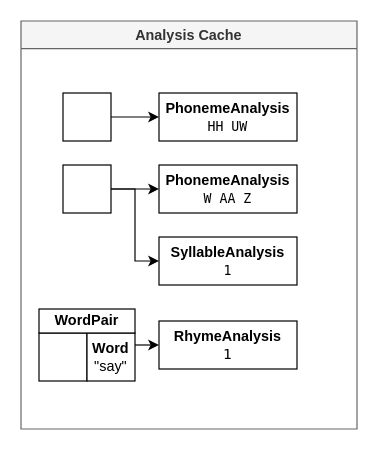
This 378x450 diagram has some shape labels left out. The box of each missing label's shape, as (x1, y1, x2, y2) in pixels:
Word "today": (38, 332, 87, 381)
Word "was": (62, 164, 111, 213)
Word "Who": (62, 92, 111, 141)
